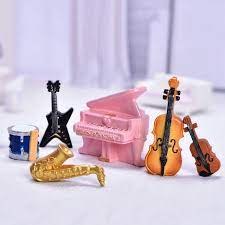Piano: (71, 78, 170, 171)
Saxophone: (22, 137, 113, 208)
Violin: (174, 109, 225, 189)
